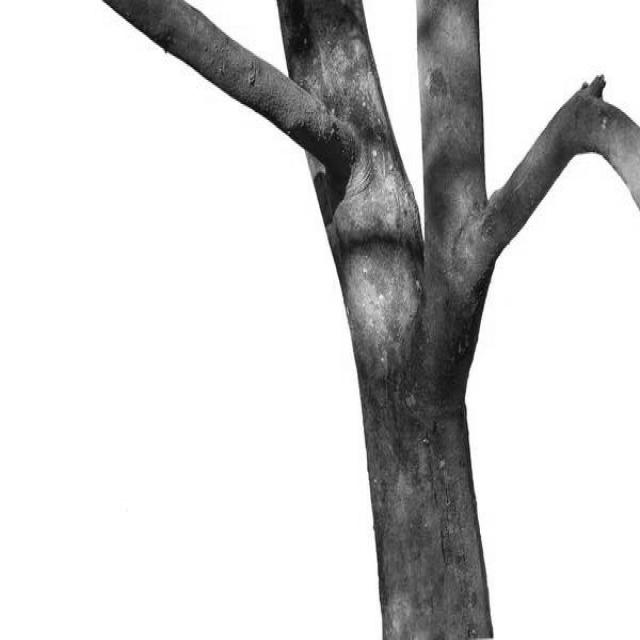Tree: (107, 0, 640, 639)
